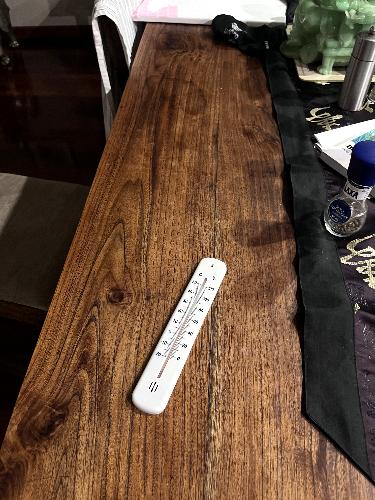thermo: (127, 250, 238, 419)
